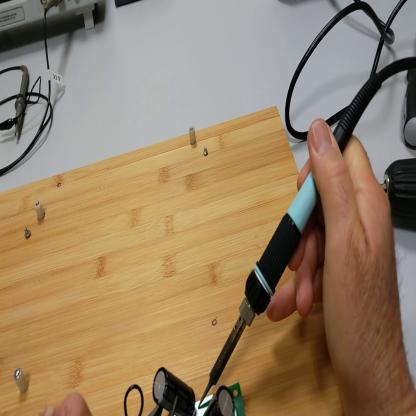electric screwdriver: (382, 155, 416, 225)
hand: (268, 118, 406, 389), (42, 391, 93, 415)
high voltage board: (124, 368, 246, 416)
oscilloscope: (2, 2, 101, 51)
oscilloscope probe tip: (14, 58, 28, 138)
screwdriver-: (404, 64, 416, 150)
welder probe tip: (198, 74, 382, 410)
working area: (2, 108, 343, 413)
